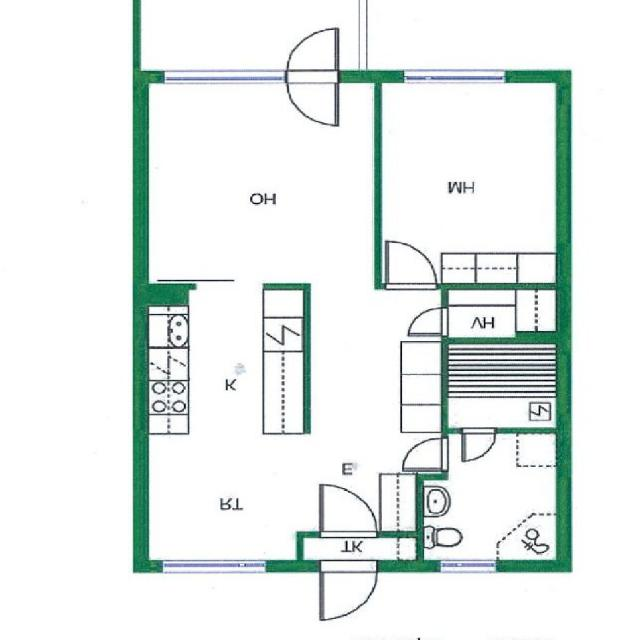door: (322, 559, 377, 618), (322, 484, 378, 536), (289, 70, 340, 125), (289, 27, 340, 82), (386, 240, 437, 288), (402, 438, 448, 470), (463, 427, 496, 461), (409, 307, 449, 335)
